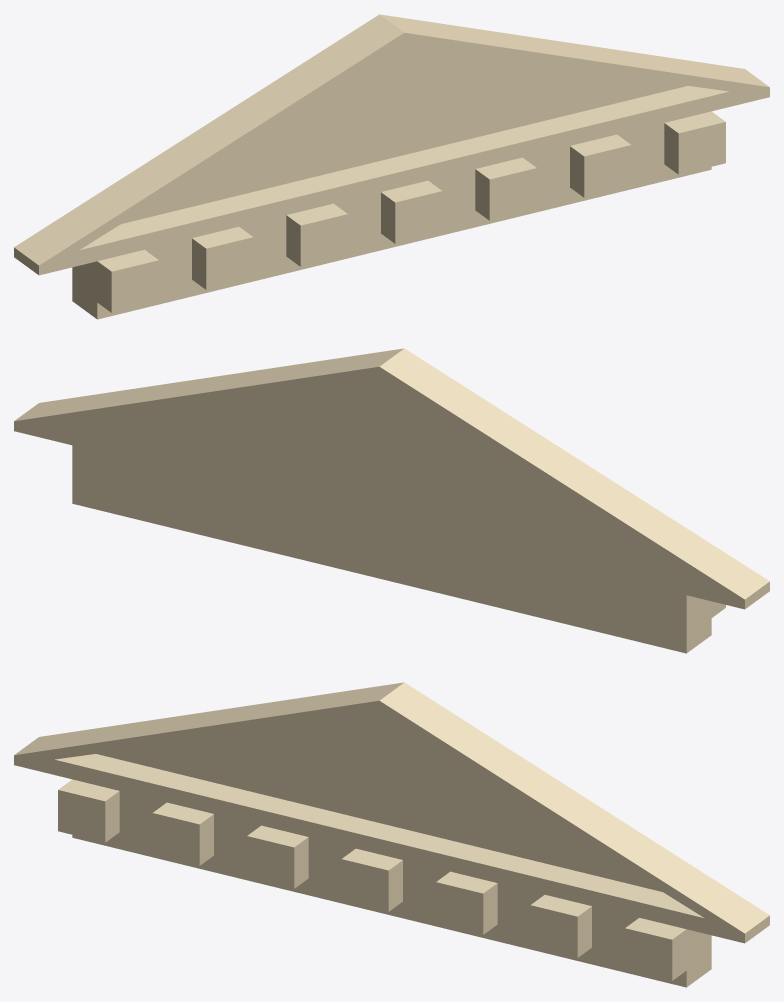
File: pediment_broken.fbx
3 views of the same model, one above another, from view 1: azimuth 30°, elevation 25°; view 2: azimuth 150°, elevation 25°; view 3: azimuth 330°, elevation 25° (orthographic).
Parts seen in each view (by area): view 1: Box010_Part_6, Box010_Part_7, Box010_Part_14, Box010_Part_8, Box010_Part_4, Box010_Part_5, Box010_Part_13, Box010_Part_12, Box010_Part_11, Box010_Part_1, Box010_Part_3, Box010_Part_9 (+2 smaller); view 2: Box010_Part_12, Box010_Part_14, Box010_Part_8, Box010_Part_13, Box010_Part_4, Box010_Part_2, Box010_Part_7, Box010_Part_3, Box010_Part_6, Box010_Part_9, Box010_Part_1, Box010_Part_5 (+2 smaller); view 3: Box010_Part_4, Box010_Part_6, Box010_Part_13, Box010_Part_7, Box010_Part_14, Box010_Part_8, Box010_Part_5, Box010_Part_11, Box010_Part_1, Box010_Part_12, Box010_Part_3, Box010_Part_9 (+2 smaller).
Part boxes in pixels (x1,y1,x2,y2): Box010_Part_6: [379, 53, 514, 240]; Box010_Part_7: [541, 68, 711, 203]; Box010_Part_14: [154, 81, 295, 251]; Box010_Part_8: [264, 26, 382, 216]; Box010_Part_4: [564, 42, 769, 170]; Box010_Part_5: [14, 223, 223, 319]; Box010_Part_13: [362, 14, 590, 95]; Box010_Part_12: [14, 158, 213, 280]; Box010_Part_11: [319, 49, 414, 260]; Box010_Part_1: [200, 201, 344, 294]; Box010_Part_3: [453, 88, 546, 186]; Box010_Part_9: [465, 140, 570, 229]; Box010_Part_12: [575, 490, 746, 646]; Box010_Part_14: [484, 418, 625, 605]; Box010_Part_8: [395, 363, 512, 579]; Box010_Part_13: [195, 348, 426, 435]; Box010_Part_4: [14, 376, 217, 507]; Box010_Part_2: [344, 383, 425, 577]; Box010_Part_7: [87, 410, 220, 533]; Box010_Part_3: [216, 428, 330, 561]; Box010_Part_6: [317, 396, 382, 569]; Box010_Part_9: [195, 466, 332, 566]; Box010_Part_1: [446, 554, 580, 627]; Box010_Part_5: [659, 539, 769, 653]; Box010_Part_4: [563, 800, 769, 987]; Box010_Part_6: [359, 711, 465, 927]; Box010_Part_13: [356, 682, 588, 832]; Box010_Part_7: [521, 828, 681, 986]; Box010_Part_14: [158, 698, 299, 824]; Box010_Part_8: [253, 685, 385, 838]; Box010_Part_5: [14, 738, 175, 862]; Box010_Part_11: [270, 707, 366, 905]; Box010_Part_1: [165, 807, 313, 896]; Box010_Part_12: [37, 716, 185, 813]; Box010_Part_3: [459, 798, 552, 901]; Box010_Part_9: [440, 877, 545, 952].
Bounding box in the file's own units: 776 × 215 × 72.34.
Materials: 1 (1 with a texture image).
